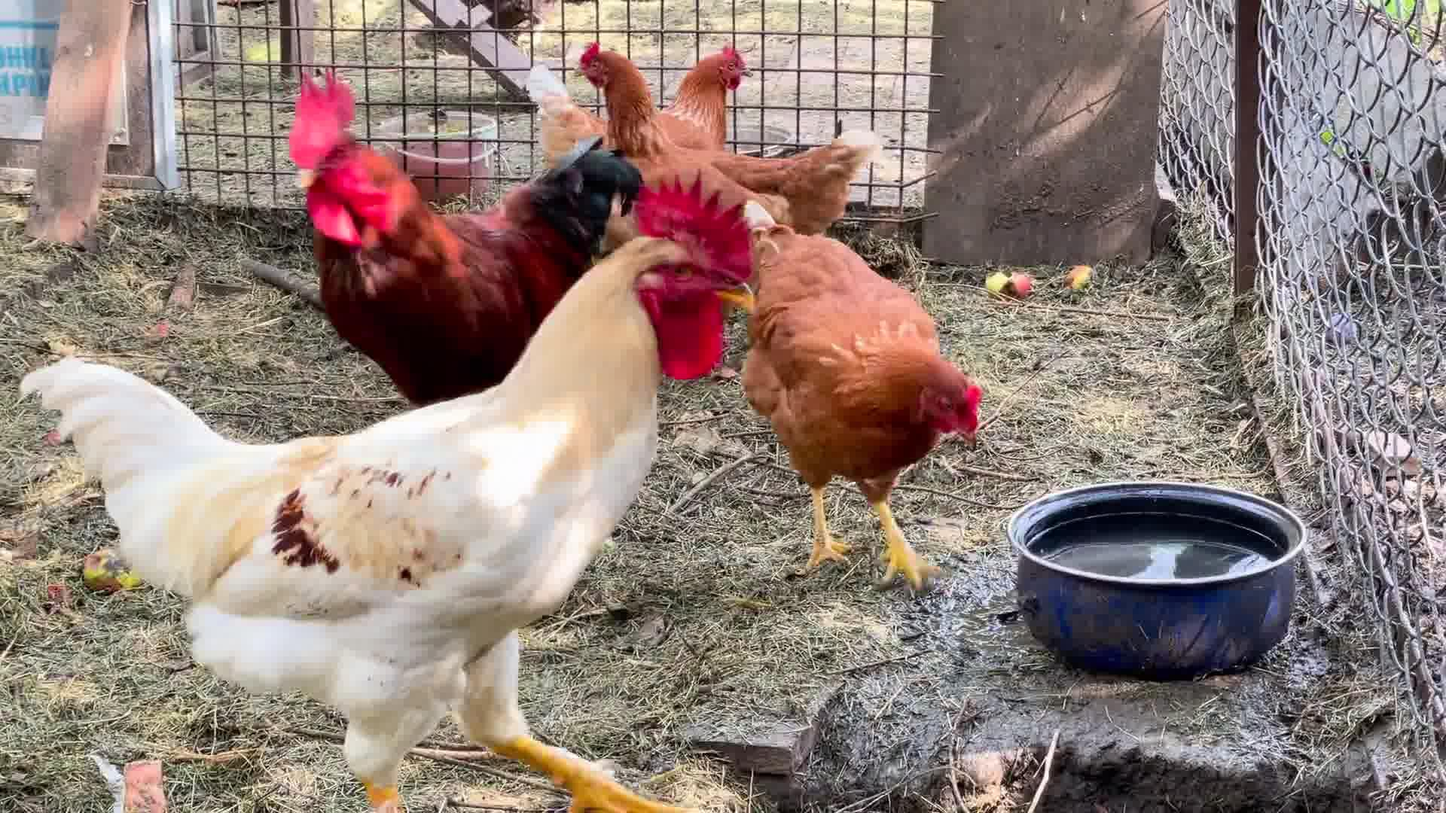Normal: (34, 183, 760, 813), (275, 76, 619, 365), (757, 239, 992, 595), (571, 40, 873, 226), (531, 47, 771, 163)
